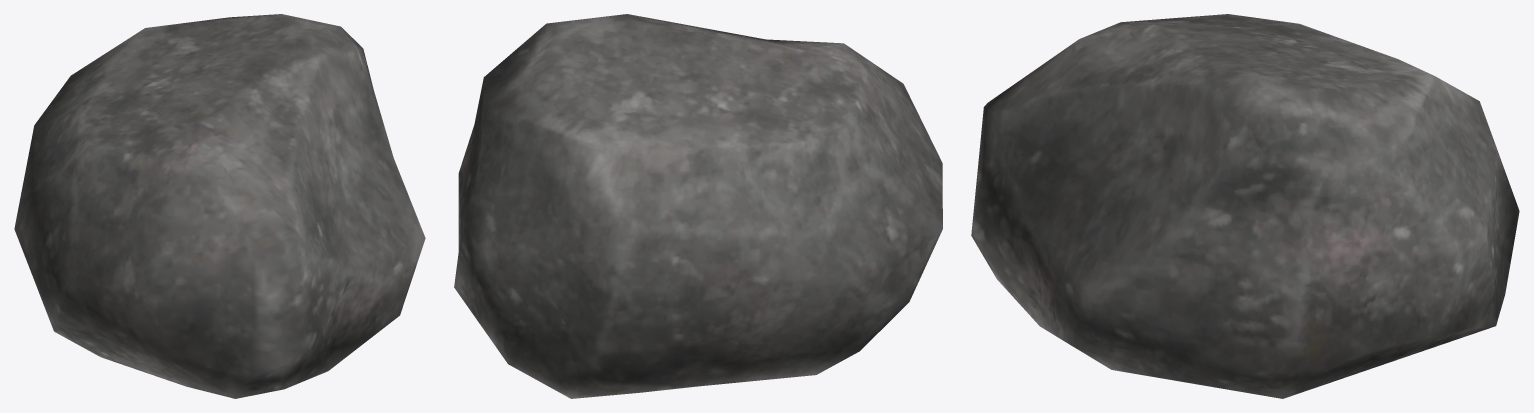
The model's file is objects_un_a_w23rock01_04.gltf.
3 views of the same model, side by side, from view 1: azimuth 30°, elevation 25°; view 2: azimuth 150°, elevation 25°; view 3: azimuth 270°, elevation 25° (orthographic). The views are drawn at different scales.
Parts seen in each view (by area): view 1: um_objects_un_a_w23rock01_04_model_lod0Shape:objects_un_a_w2; view 2: um_objects_un_a_w23rock01_04_model_lod0Shape:objects_un_a_w2; view 3: um_objects_un_a_w23rock01_04_model_lod0Shape:objects_un_a_w2.
Part boxes in pixels (<box>): um_objects_un_a_w23rock01_04_model_lod0Shape:objects_un_a_w2: <box>14,14,425,398</box>; um_objects_un_a_w23rock01_04_model_lod0Shape:objects_un_a_w2: <box>454,14,942,398</box>; um_objects_un_a_w23rock01_04_model_lod0Shape:objects_un_a_w2: <box>971,14,1519,398</box>.
Size of what is drawn, in the model's own units: 1.5 by 1.02 by 1.66.
Materials: 2 (1 with a texture image).
